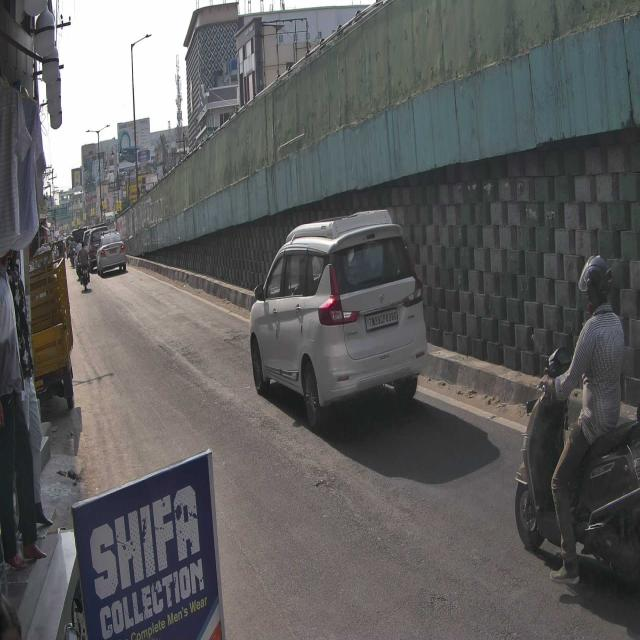single_rider: (510, 248, 640, 607)
